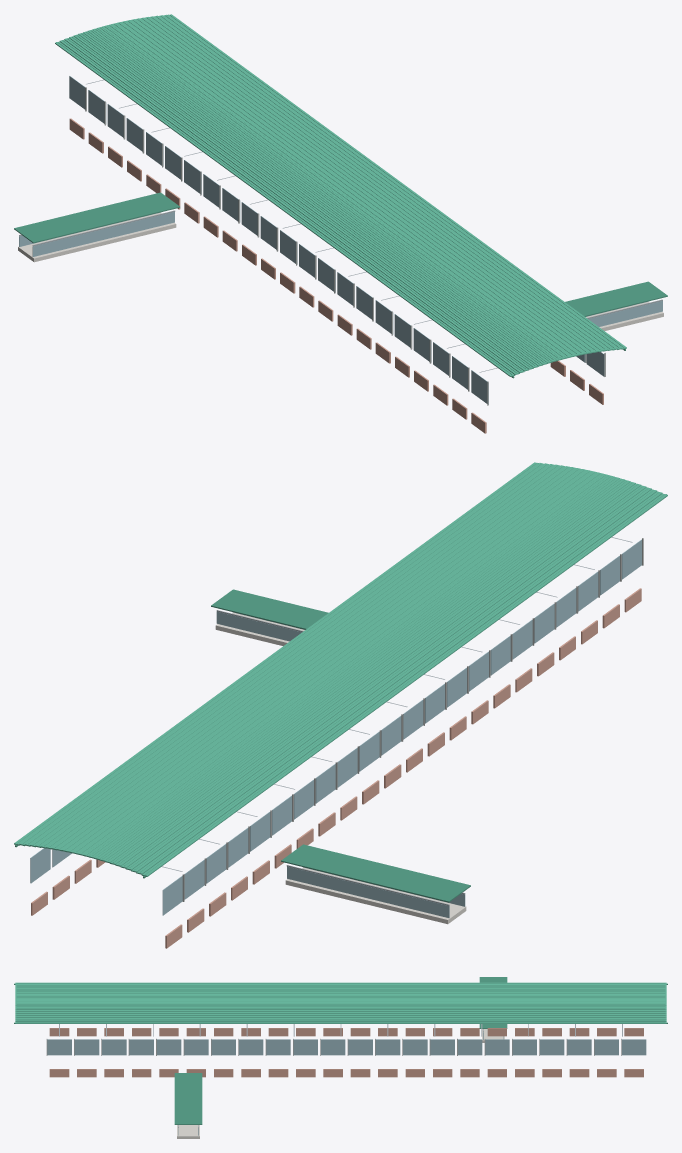
The model's file is station-7-photo-reference.glb.
The picture shows the model from 3 angles, top to bottom: view 1: azimuth 30°, elevation 25°; view 2: azimuth 150°, elevation 25°; view 3: azimuth 270°, elevation 25°; orthographic projection. The views are drawn at different scales.
Parts seen in each view (by area): view 1: Station 7 photo-informed architecture and surroundings; view 2: Station 7 photo-informed architecture and surroundings; view 3: Station 7 photo-informed architecture and surroundings.
Boxes of the visible parts, x1,y1,x2,y2 form: Station 7 photo-informed architecture and surroundings: (14,14,667,433); Station 7 photo-informed architecture and surroundings: (14,462,667,948); Station 7 photo-informed architecture and surroundings: (14,977,667,1138).
Size of the model in its own units: 89 by 18.91 by 167.
